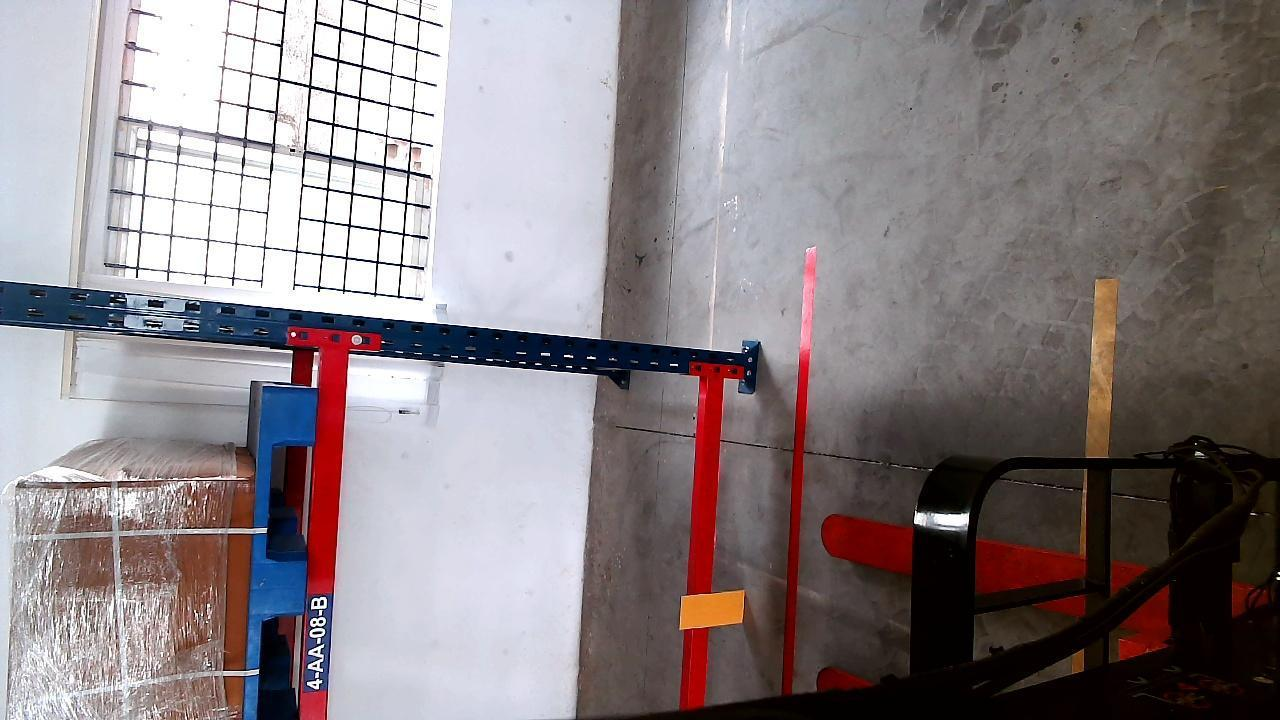h_rack: (303, 354, 346, 720), (687, 371, 722, 702)
orange_strip: (680, 590, 745, 628)
red_line: (774, 244, 819, 695)
small_pallet: (243, 383, 315, 720)
yellow_line: (1087, 272, 1115, 461)
